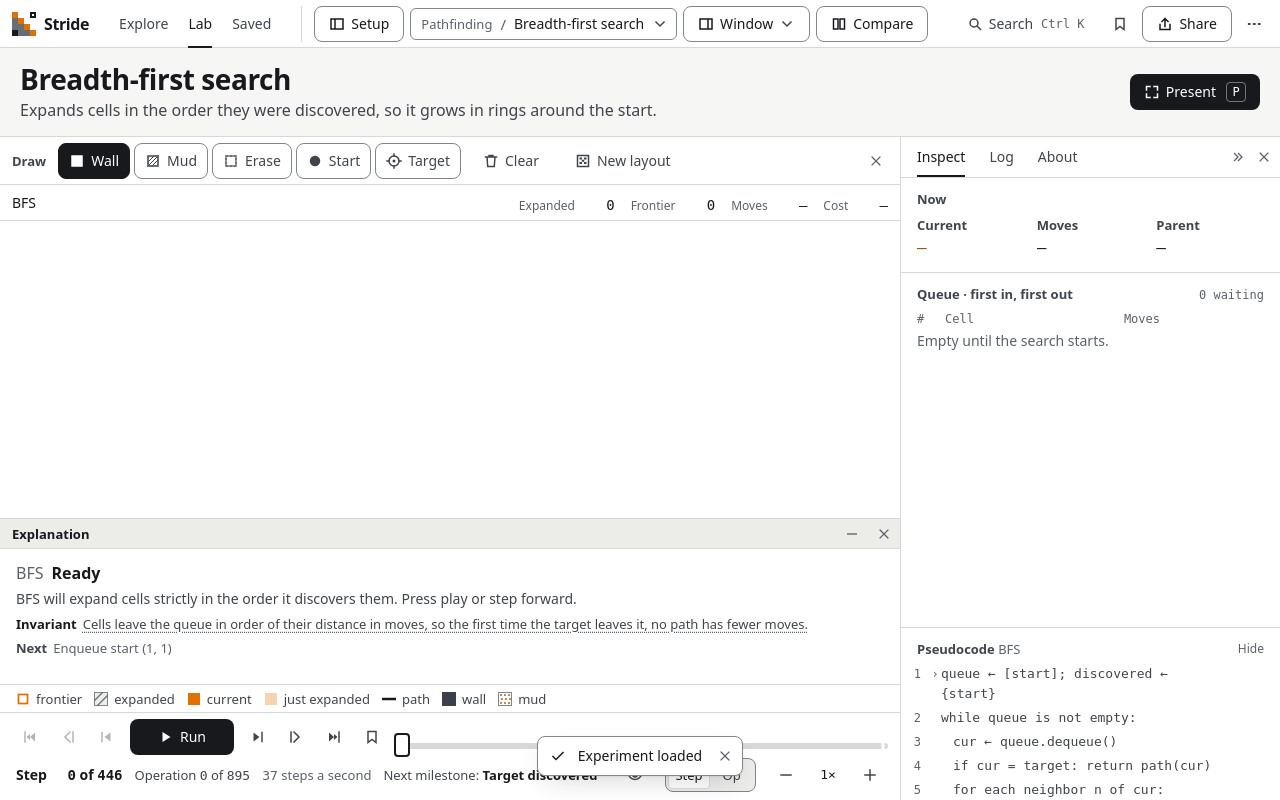
Test: command palette › opens with Ctrl+K, finds algorithms by abbreviation and navigates with the keyboard
Later steps or results of the test are not shown.
Expected: the slider named "Timeline position" is shown, [394,733,410,757]
Press k
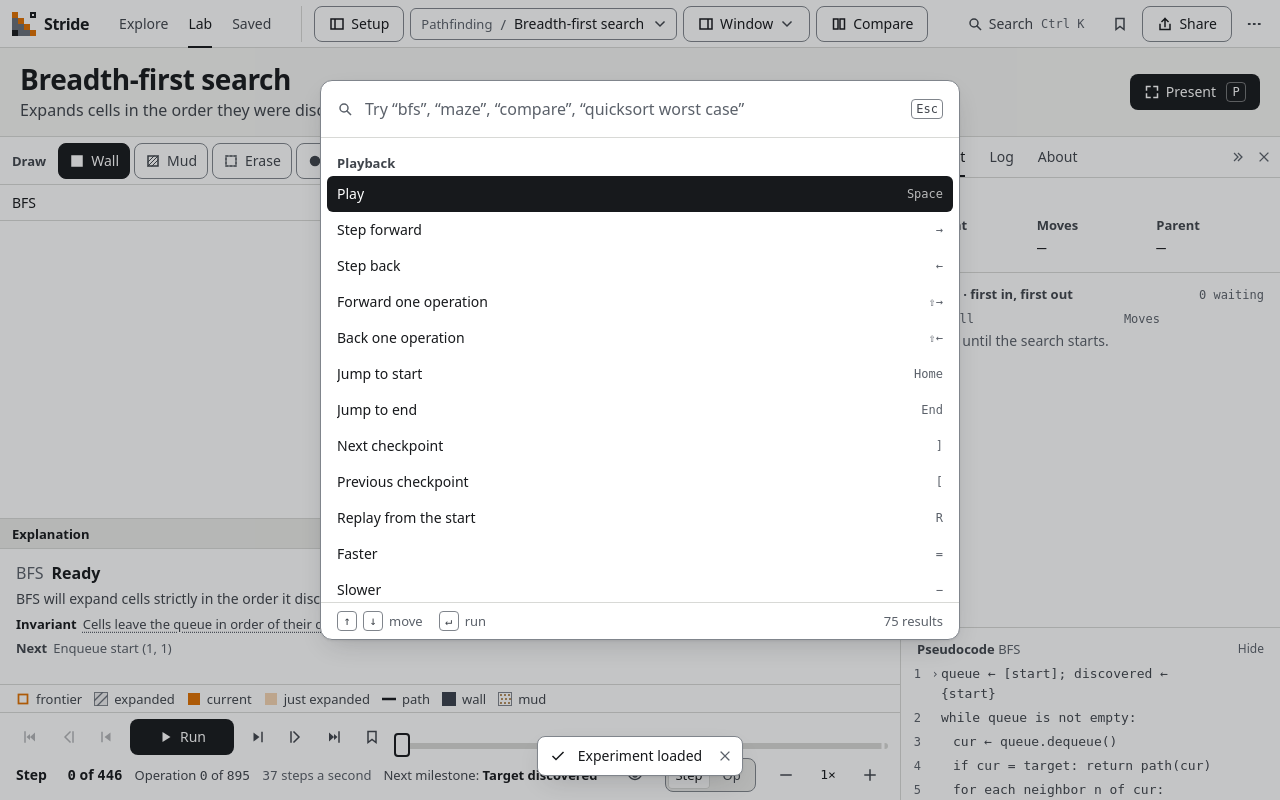
Type "dijk" into the dropdown named "search commands" at (632, 109), box [365,81,899,137]
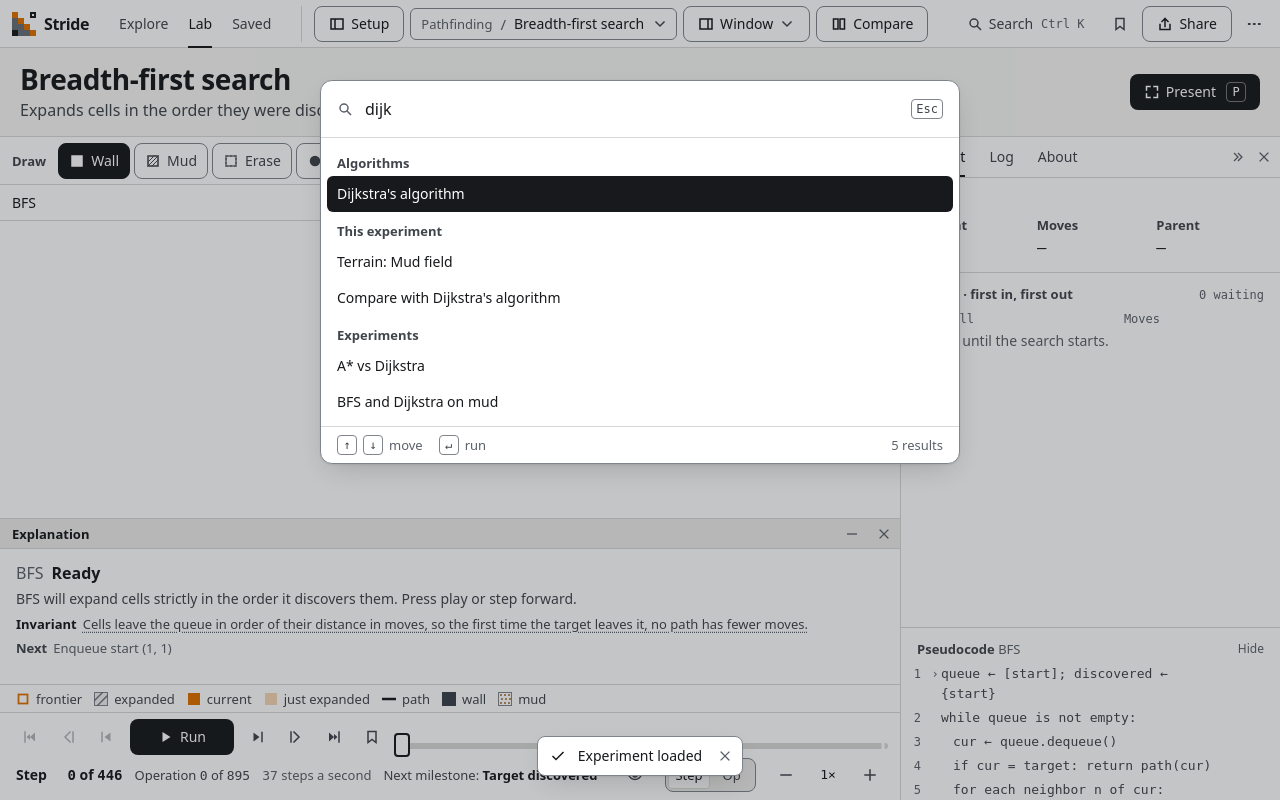
Expected: the option "Dijkstra's algorithm" is shown, [327,176,953,212]
Replace the text in the dropdown named "search commands" with "maze" at (632, 109), box [365,81,899,137]
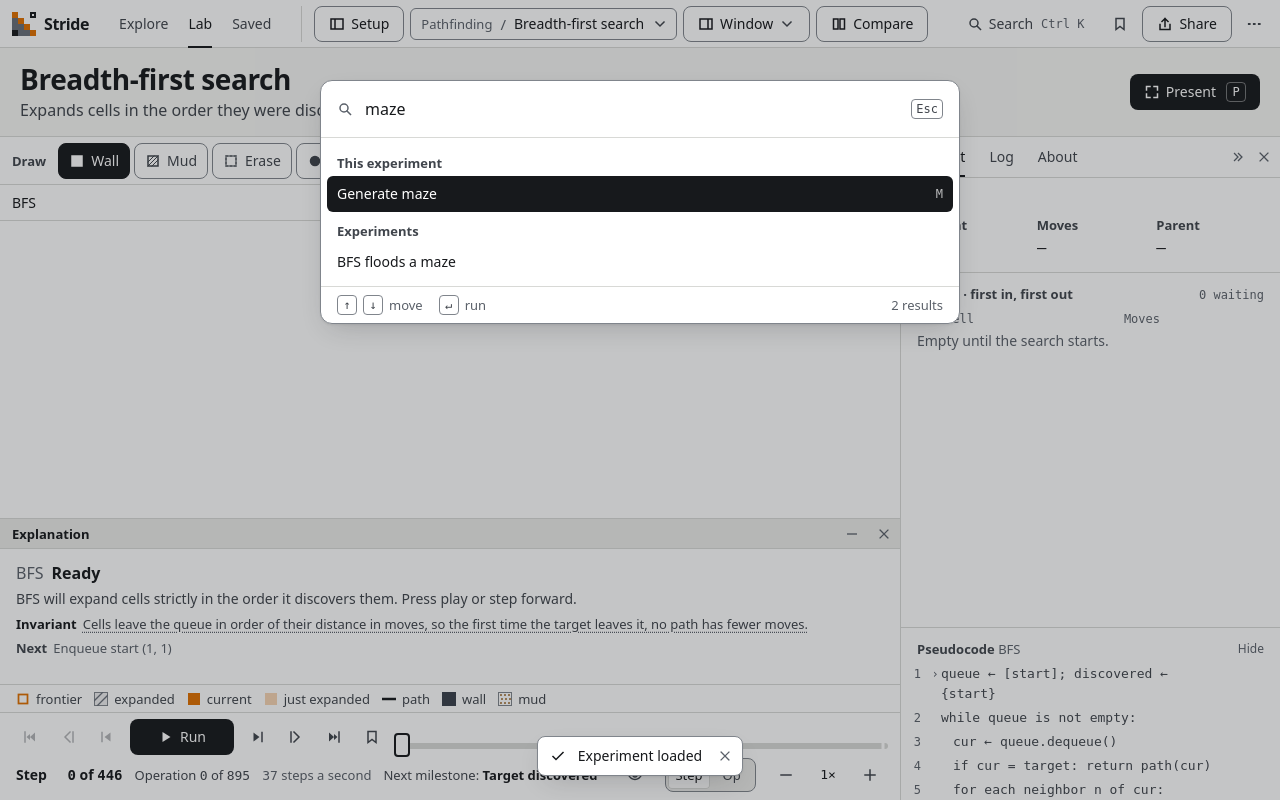
Expected: the option "Generate maze M" is shown, [327,176,953,212]
